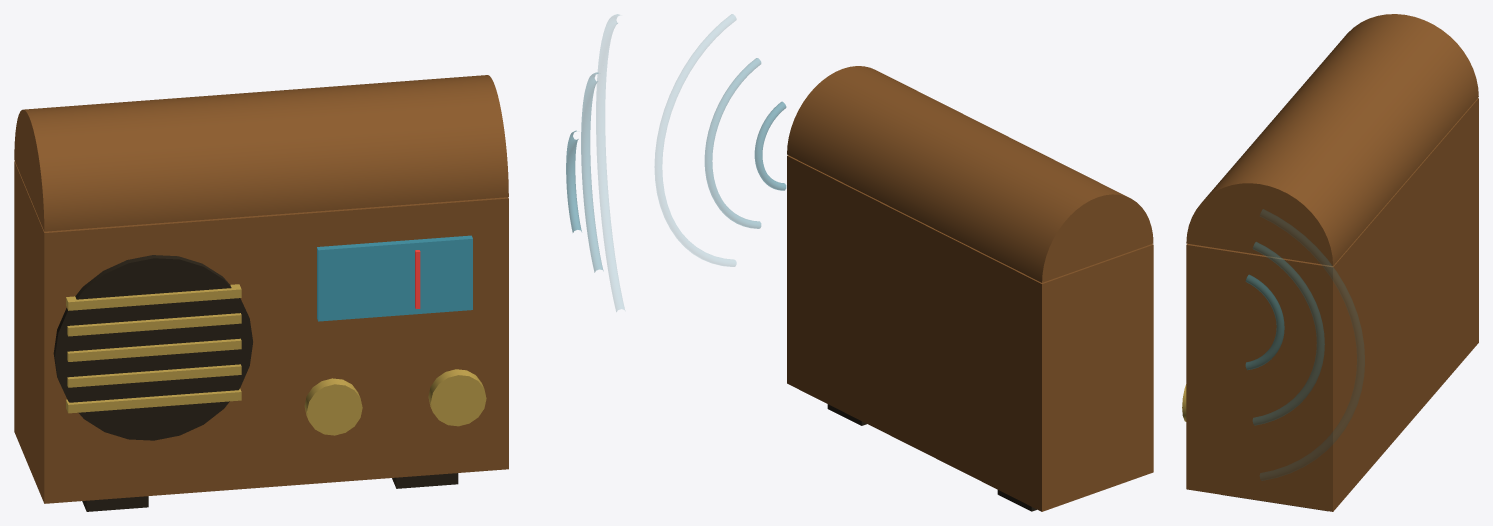
The model's file is radio.glb.
The picture shows the model from 3 angles, left to right: view 1: azimuth 30°, elevation 25°; view 2: azimuth 150°, elevation 25°; view 3: azimuth 270°, elevation 25°; orthographic projection. The views are drawn at different scales.
Bounding box in the file's own units: 2.12 × 1.43 × 1.04.
